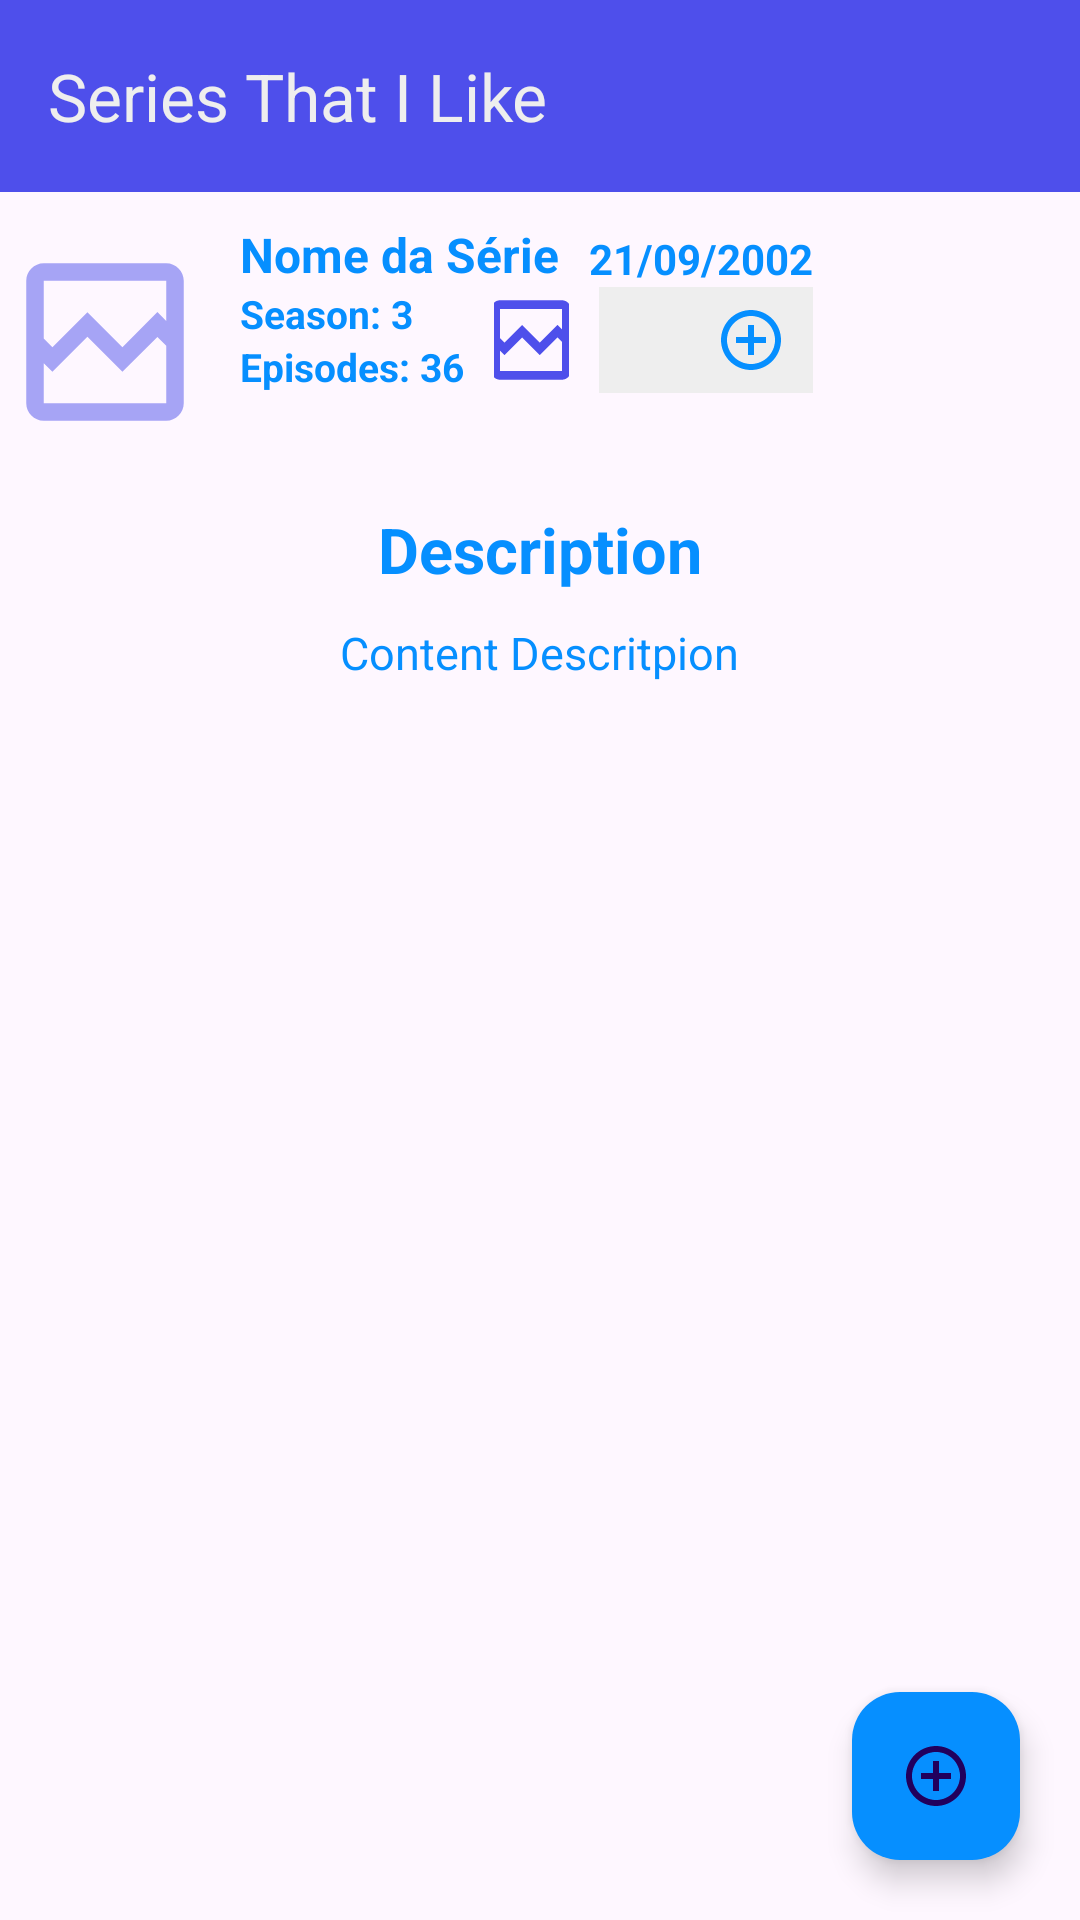

Named icons in this screenshot (1080w x 1920h) and their centers, (x,y):
broken: (105,342), (531,340)
